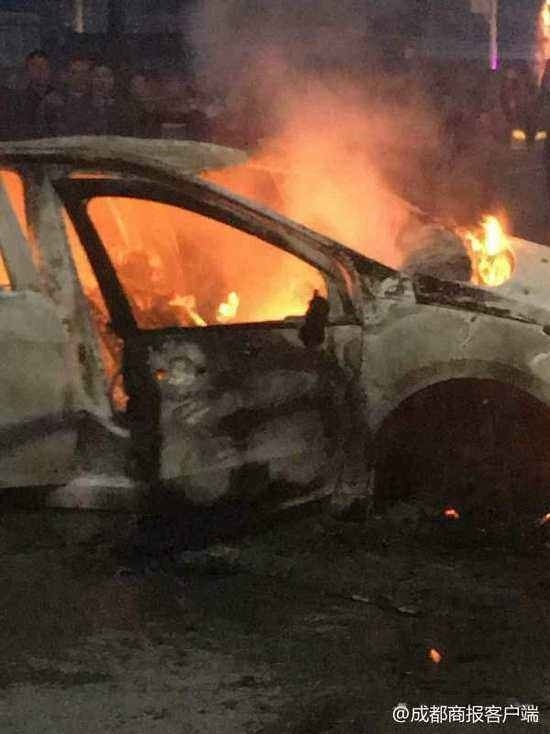fire: (455, 206, 519, 286), (425, 644, 443, 662)
